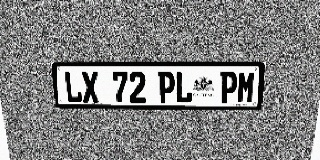2: (129, 71, 146, 103)
7: (111, 71, 129, 103)
L: (64, 71, 83, 103), (175, 71, 193, 103)
M: (236, 71, 256, 103)
P: (219, 71, 238, 103), (158, 71, 175, 103)
X: (81, 71, 99, 103)
